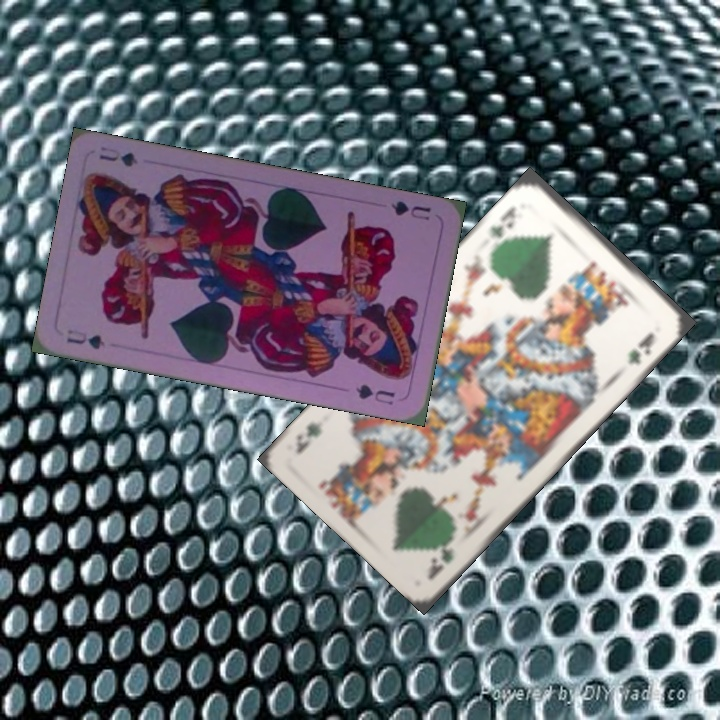GK: (423, 532, 458, 583), (485, 202, 519, 241)
GU: (387, 196, 434, 223), (62, 325, 108, 352)
